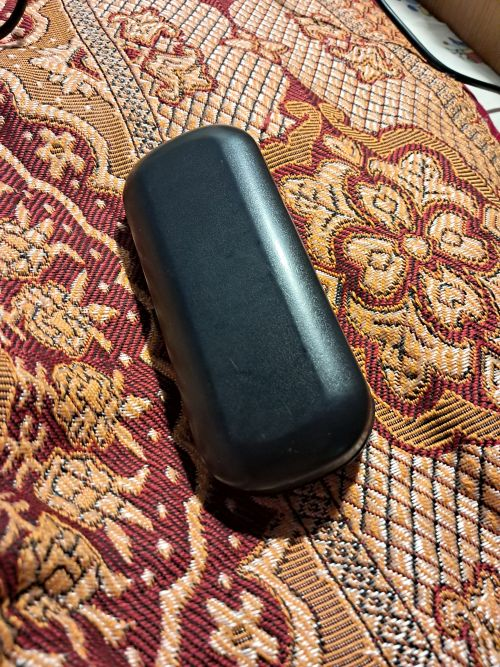case: (121, 123, 376, 492)
